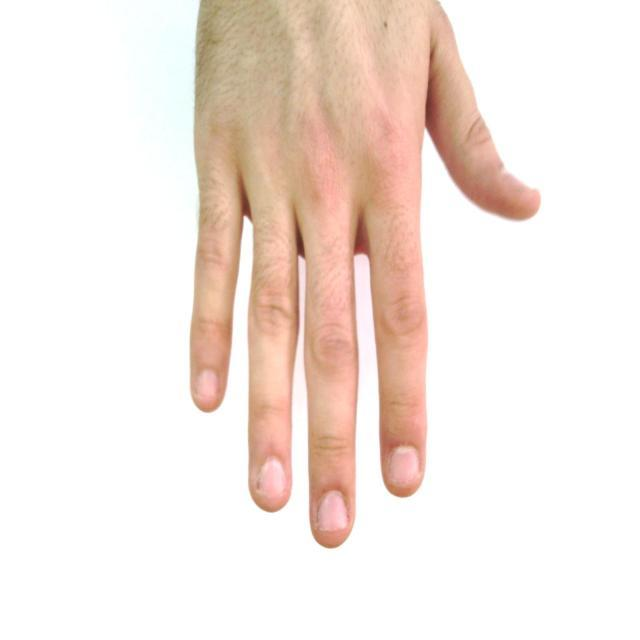Fingernail: (318, 492, 347, 531), (390, 447, 419, 485), (260, 459, 285, 497), (196, 371, 218, 399)
